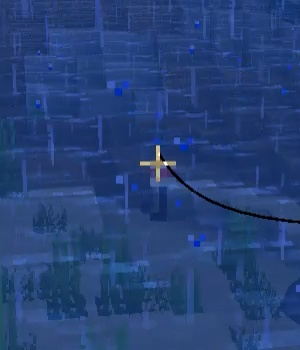up: (143, 157, 183, 225)
